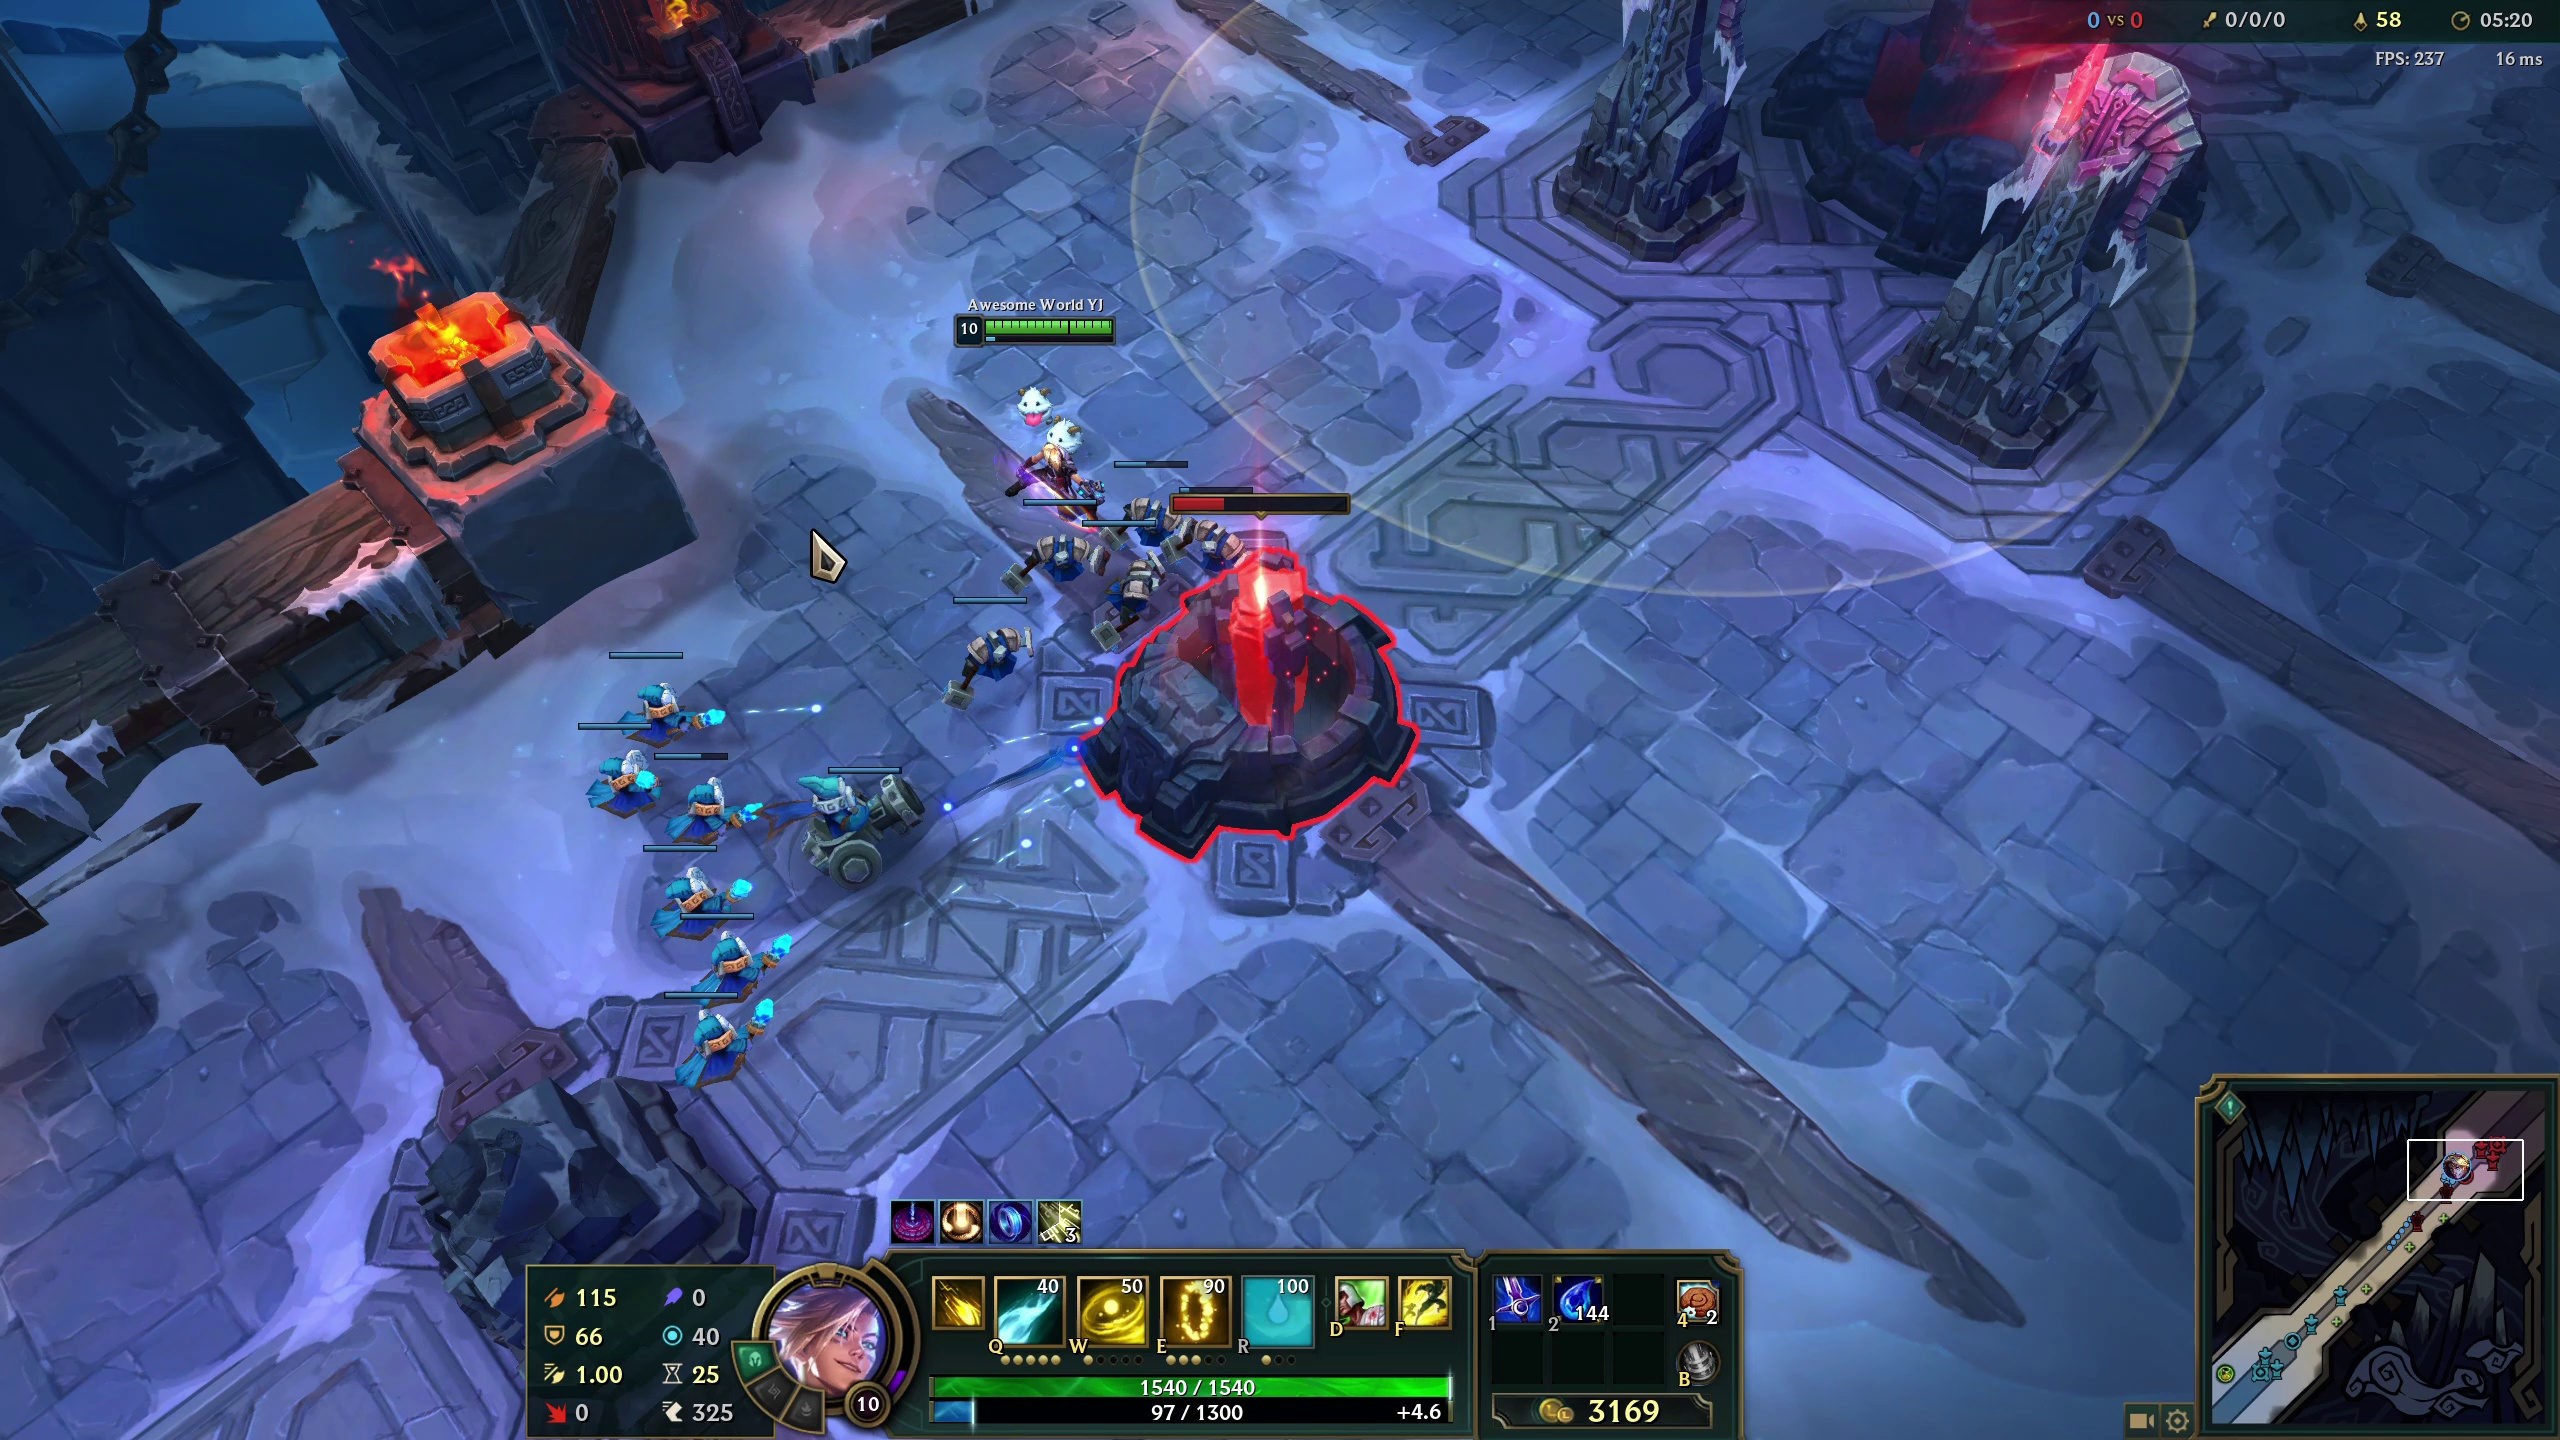EZ: (955, 324, 1104, 498)
Inhibitor: (1136, 582, 1356, 804), (1786, 28, 1959, 215)
MyMinion: (636, 737, 749, 819), (624, 832, 737, 914), (656, 986, 768, 1069), (1078, 517, 1190, 600), (605, 645, 716, 728), (932, 600, 1043, 682), (665, 900, 775, 983), (999, 494, 1109, 577), (1102, 454, 1215, 535), (563, 724, 673, 805)
MySuperMinnion: (788, 761, 928, 874)
Turret: (1605, 2, 1727, 243), (1973, 195, 2092, 438)
